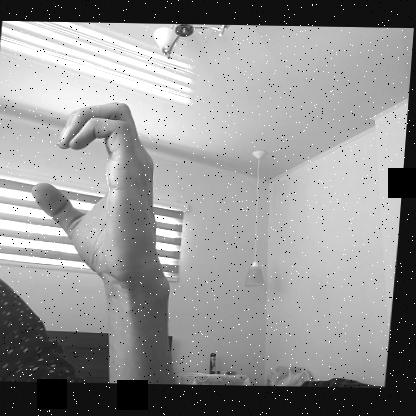C: (29, 100, 176, 280)
